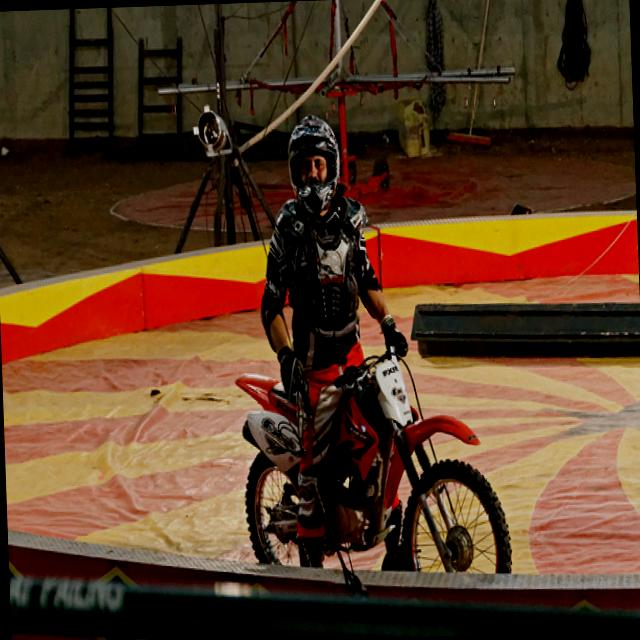Vehicle: (233, 338, 514, 586)
